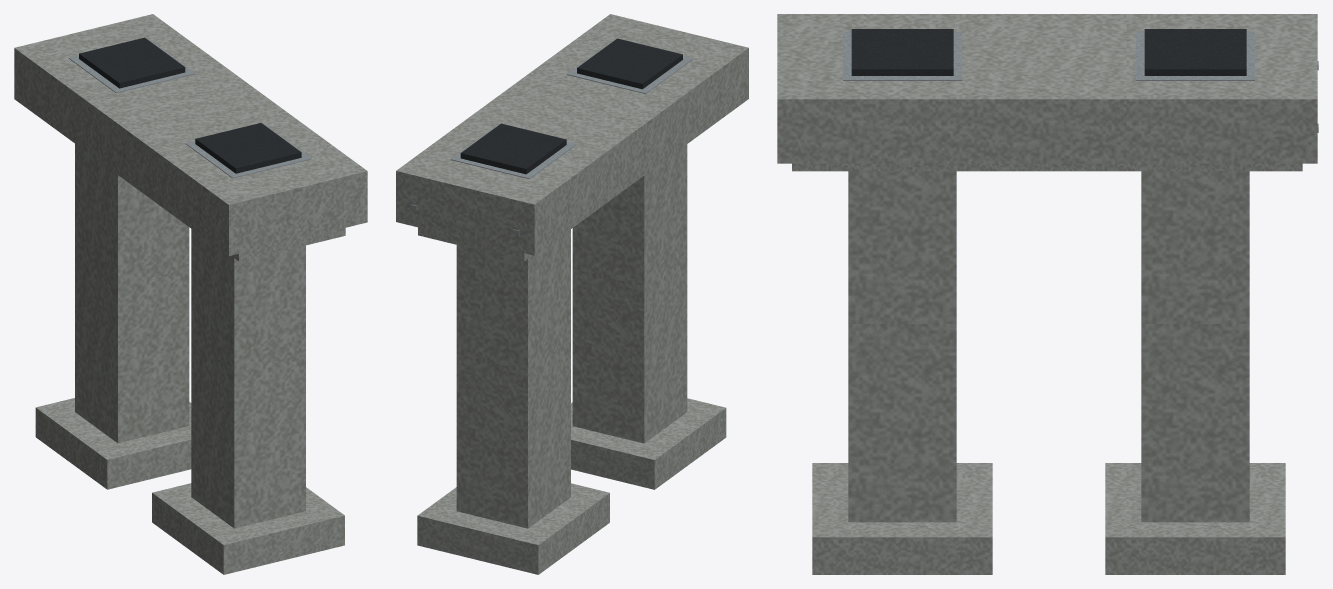
The model's file is PZ_04_ConcretePier_5m.glb.
3 renders of one model, left to right at view 1: azimuth 30°, elevation 25°; view 2: azimuth 150°, elevation 25°; view 3: azimuth 270°, elevation 25°, orthographic. The views are drawn at different scales.
Parts seen in each view (by area): view 1: PIER_LoadTransferCap, PIER_Column_R, PIER_Column_L, PIER_Foot_R, PIER_Foot_L, PIER_ElastomerBearing_R, PIER_ElastomerBearing_L, PIER_CapStiffener, PIER_BearingPlate_R, PIER_BearingPlate_L; view 2: PIER_LoadTransferCap, PIER_Column_L, PIER_Column_R, PIER_Foot_L, PIER_Foot_R, PIER_ElastomerBearing_L, PIER_ElastomerBearing_R, PIER_CapStiffener, PIER_BearingPlate_L, PIER_BearingPlate_R; view 3: PIER_LoadTransferCap, PIER_Column_L, PIER_Column_R, PIER_Foot_L, PIER_Foot_R, PIER_ElastomerBearing_L, PIER_ElastomerBearing_R, PIER_CapStiffener, PIER_BearingPlate_L, PIER_BearingPlate_R.
Part boxes in pixels (bbox=[...]): PIER_LoadTransferCap: bbox=[14, 14, 367, 255]; PIER_Column_R: bbox=[191, 229, 305, 528]; PIER_Column_L: bbox=[75, 144, 189, 443]; PIER_Foot_R: bbox=[152, 483, 344, 574]; PIER_Foot_L: bbox=[35, 398, 191, 489]; PIER_ElastomerBearing_R: bbox=[195, 123, 301, 173]; PIER_ElastomerBearing_L: bbox=[79, 37, 185, 88]; PIER_CapStiffener: bbox=[231, 228, 345, 261]; PIER_BearingPlate_R: bbox=[185, 124, 311, 178]; PIER_BearingPlate_L: bbox=[69, 39, 195, 93]; PIER_LoadTransferCap: bbox=[396, 14, 748, 255]; PIER_Column_L: bbox=[456, 229, 570, 528]; PIER_Column_R: bbox=[572, 144, 687, 443]; PIER_Foot_L: bbox=[417, 483, 609, 574]; PIER_Foot_R: bbox=[571, 398, 726, 489]; PIER_ElastomerBearing_L: bbox=[460, 123, 566, 174]; PIER_ElastomerBearing_R: bbox=[577, 38, 682, 89]; PIER_CapStiffener: bbox=[418, 227, 531, 261]; PIER_BearingPlate_L: bbox=[450, 125, 576, 178]; PIER_BearingPlate_R: bbox=[567, 39, 692, 93]; PIER_LoadTransferCap: bbox=[777, 14, 1317, 163]; PIER_Column_L: bbox=[1141, 171, 1249, 522]; PIER_Column_R: bbox=[848, 171, 956, 522]; PIER_Foot_L: bbox=[1105, 463, 1285, 574]; PIER_Foot_R: bbox=[812, 463, 992, 574]; PIER_ElastomerBearing_L: bbox=[1144, 29, 1246, 75]; PIER_ElastomerBearing_R: bbox=[851, 29, 953, 75]; PIER_CapStiffener: bbox=[792, 163, 1302, 171]; PIER_BearingPlate_L: bbox=[1136, 31, 1254, 80]; PIER_BearingPlate_R: bbox=[843, 31, 961, 80].
Bounding box in the file's own units: 1.9 × 5.08 × 5.1.
3 materials, 3 textured.
